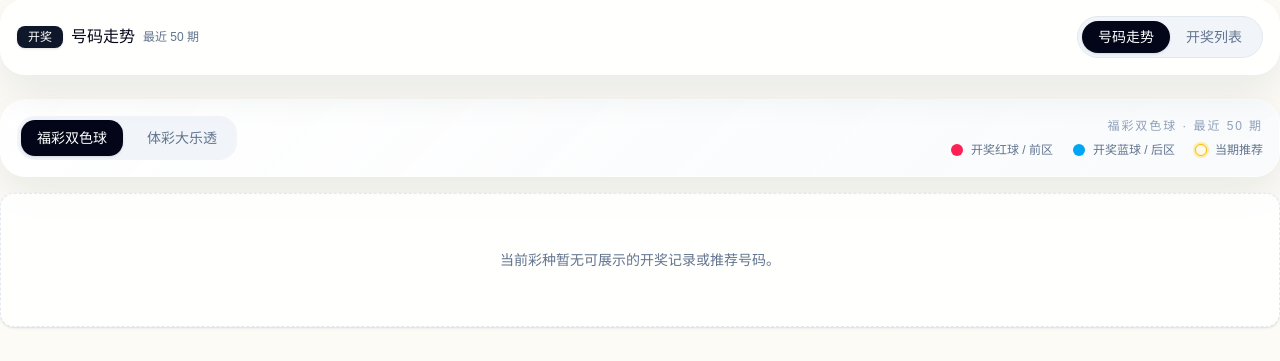
Test: defaults to trend view and keeps the existing draw list available
This screenshot has width=1280, height=361.
Expected: the text "当前彩种暂无可展示的开奖记录或推荐号码。" is shown, [500,252,780,268]
Click the button "开奖列表": (1214, 37) [1170,21,1258,53]
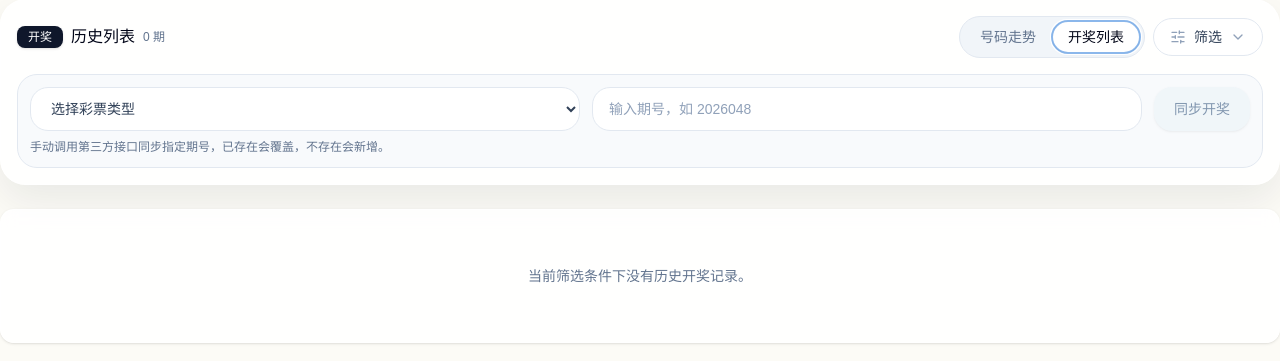
Expected: the text "当前筛选条件下没有历史开奖记录。" is shown, [528,268,752,284]
Expected: the button "筛选" is shown, [1153,18,1263,56]
Expected: the button "同步开奖" is shown, [1154,87,1250,131]
